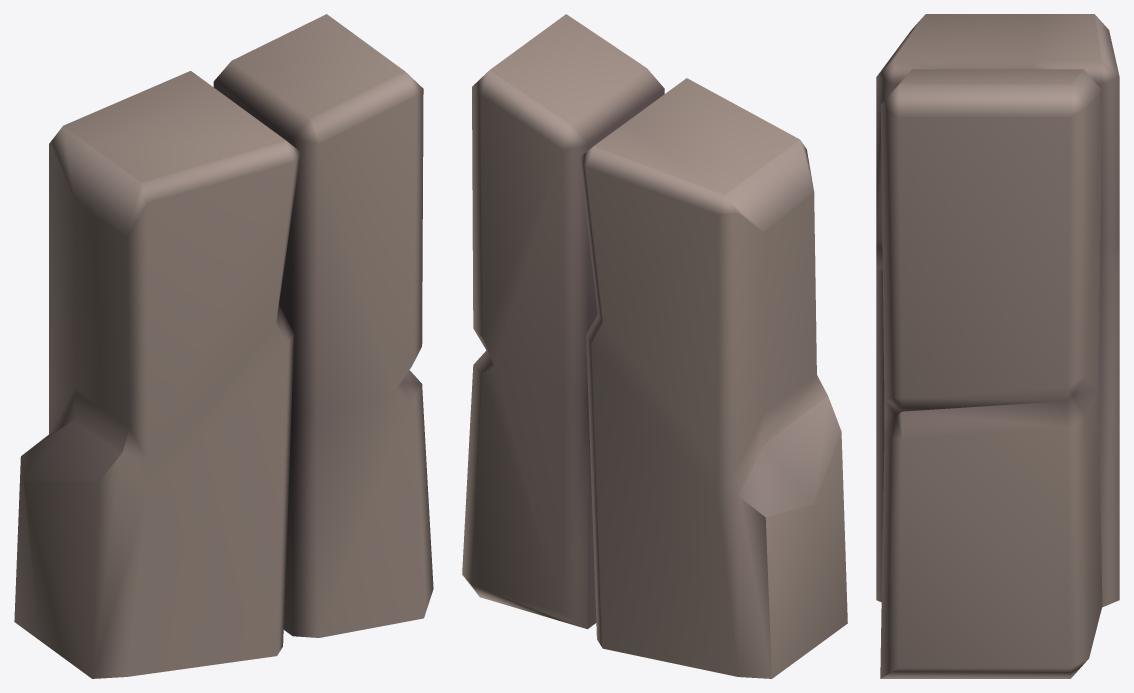
Rendered from buildings-ruins-ancientruins_v7.glb.
3 renders of one model, left to right at view 1: azimuth 30°, elevation 25°; view 2: azimuth 150°, elevation 25°; view 3: azimuth 270°, elevation 25°, orthographic. The views are drawn at different scales.
Parts seen in each view (by area): view 1: AncientRuins_v7; view 2: AncientRuins_v7; view 3: AncientRuins_v7.
Part boxes in pixels (bbox=[...]): AncientRuins_v7: bbox=[14, 14, 433, 678]; AncientRuins_v7: bbox=[462, 14, 847, 678]; AncientRuins_v7: bbox=[876, 14, 1119, 678].
Size of the model in its own units: 3.13 by 4.7 by 1.76.
